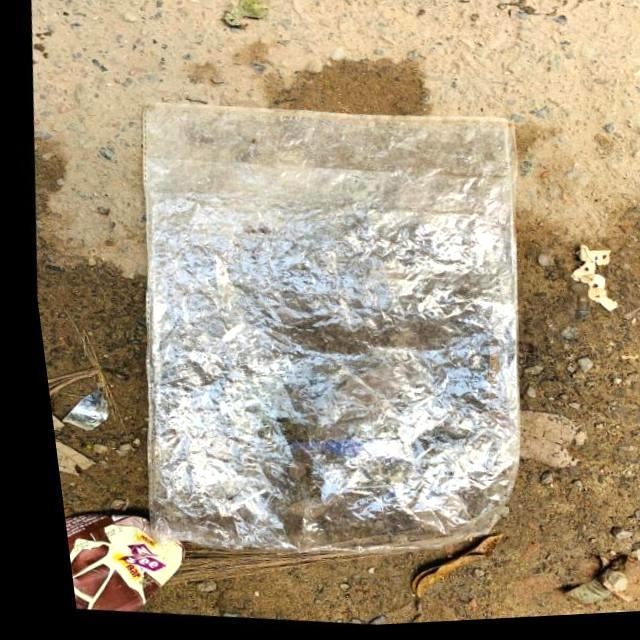polythene: (157, 112, 494, 549)
